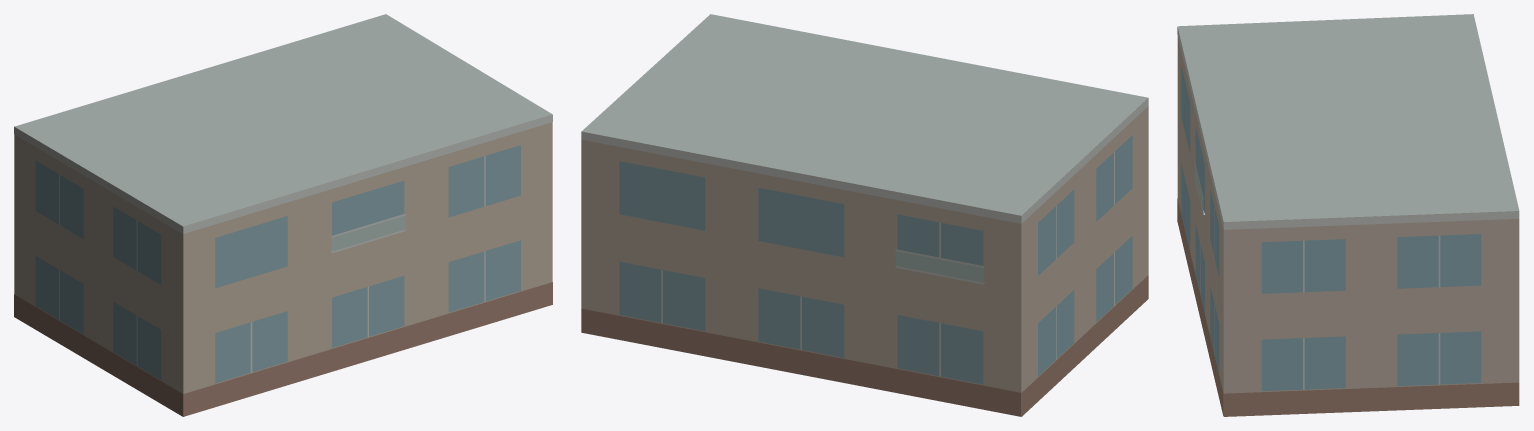
File: survey-upis-32608574.glb
3 views of the same model, side by side, from view 1: azimuth 30°, elevation 25°; view 2: azimuth 150°, elevation 25°; view 3: azimuth 270°, elevation 25° (orthographic). The views are drawn at different scales.
Visible parts, largest first — view 1: survey-upis-32608574.tmp; view 2: survey-upis-32608574.tmp; view 3: survey-upis-32608574.tmp.
Boxes of the visible parts, x1,y1,x2,y2 form: survey-upis-32608574.tmp: [14, 14, 552, 416]; survey-upis-32608574.tmp: [581, 14, 1148, 416]; survey-upis-32608574.tmp: [1177, 14, 1519, 416].
Size of the model in its own units: 13.98 by 6.1 by 9.72.
